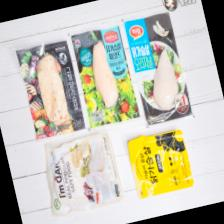chicken: (32, 52, 72, 128), (144, 46, 184, 113), (85, 40, 122, 110)
